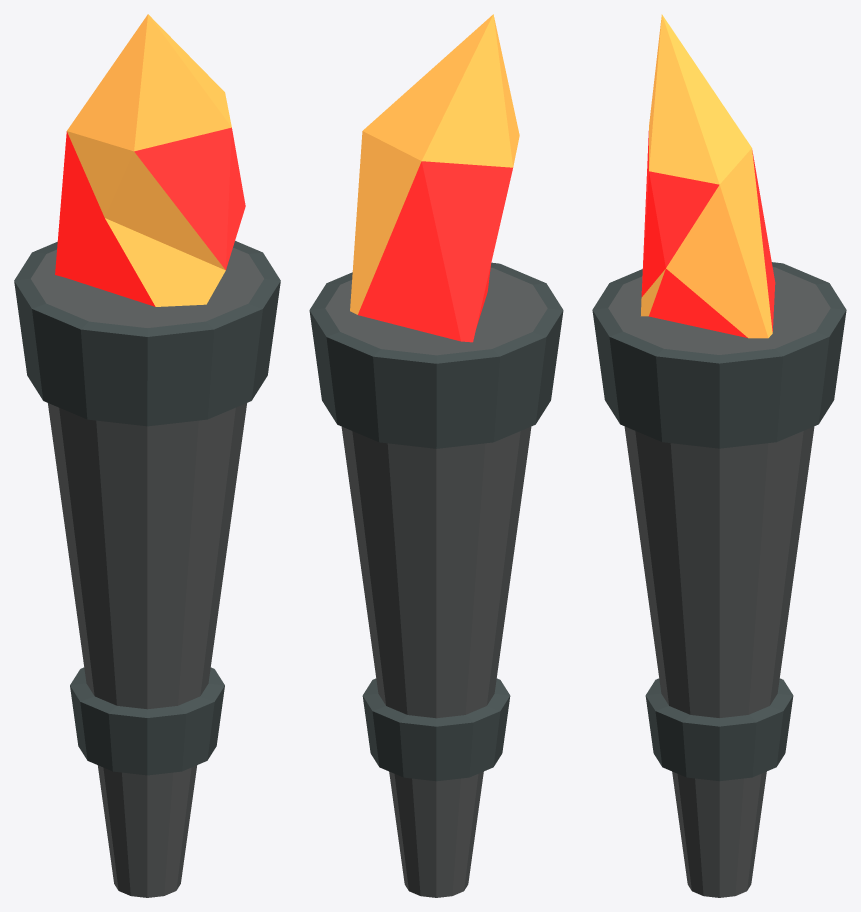
File: Torch_4_Gray.fbx
3 views of the same model, side by side, from view 1: azimuth 30°, elevation 25°; view 2: azimuth 150°, elevation 25°; view 3: azimuth 270°, elevation 25° (orthographic). The views are drawn at different scales.
Visible parts, largest first — view 1: Torch_4_Gray_Part_1, Torch_4_Gray_Part_2, Torch_4_Gray_Part_4, Torch_4_Gray_Part_3; view 2: Torch_4_Gray_Part_1, Torch_4_Gray_Part_2, Torch_4_Gray_Part_4, Torch_4_Gray_Part_3; view 3: Torch_4_Gray_Part_1, Torch_4_Gray_Part_2, Torch_4_Gray_Part_4, Torch_4_Gray_Part_3.
Part boxes in pixels (x1,y1,x2,y2): Torch_4_Gray_Part_1: [31, 247, 263, 897]; Torch_4_Gray_Part_2: [14, 241, 280, 775]; Torch_4_Gray_Part_4: [67, 14, 231, 306]; Torch_4_Gray_Part_3: [55, 127, 245, 306]; Torch_4_Gray_Part_1: [325, 267, 547, 897]; Torch_4_Gray_Part_2: [309, 262, 563, 781]; Torch_4_Gray_Part_4: [350, 14, 519, 314]; Torch_4_Gray_Part_3: [358, 161, 512, 342]; Torch_4_Gray_Part_1: [608, 267, 830, 897]; Torch_4_Gray_Part_2: [592, 262, 846, 781]; Torch_4_Gray_Part_4: [641, 14, 772, 338]; Torch_4_Gray_Part_3: [641, 131, 775, 337].
Size of the model in its own units: 15.98 by 59.45 by 15.98.
